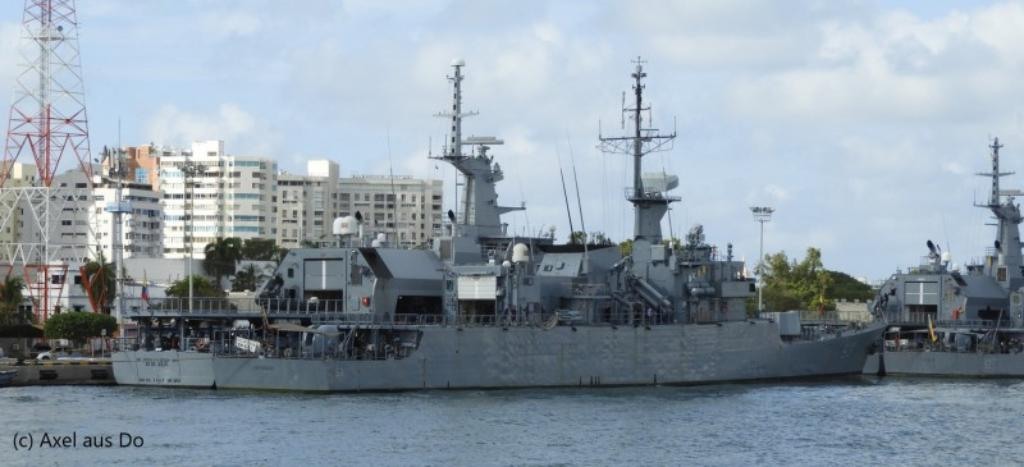Warship: (95, 59, 897, 389)
